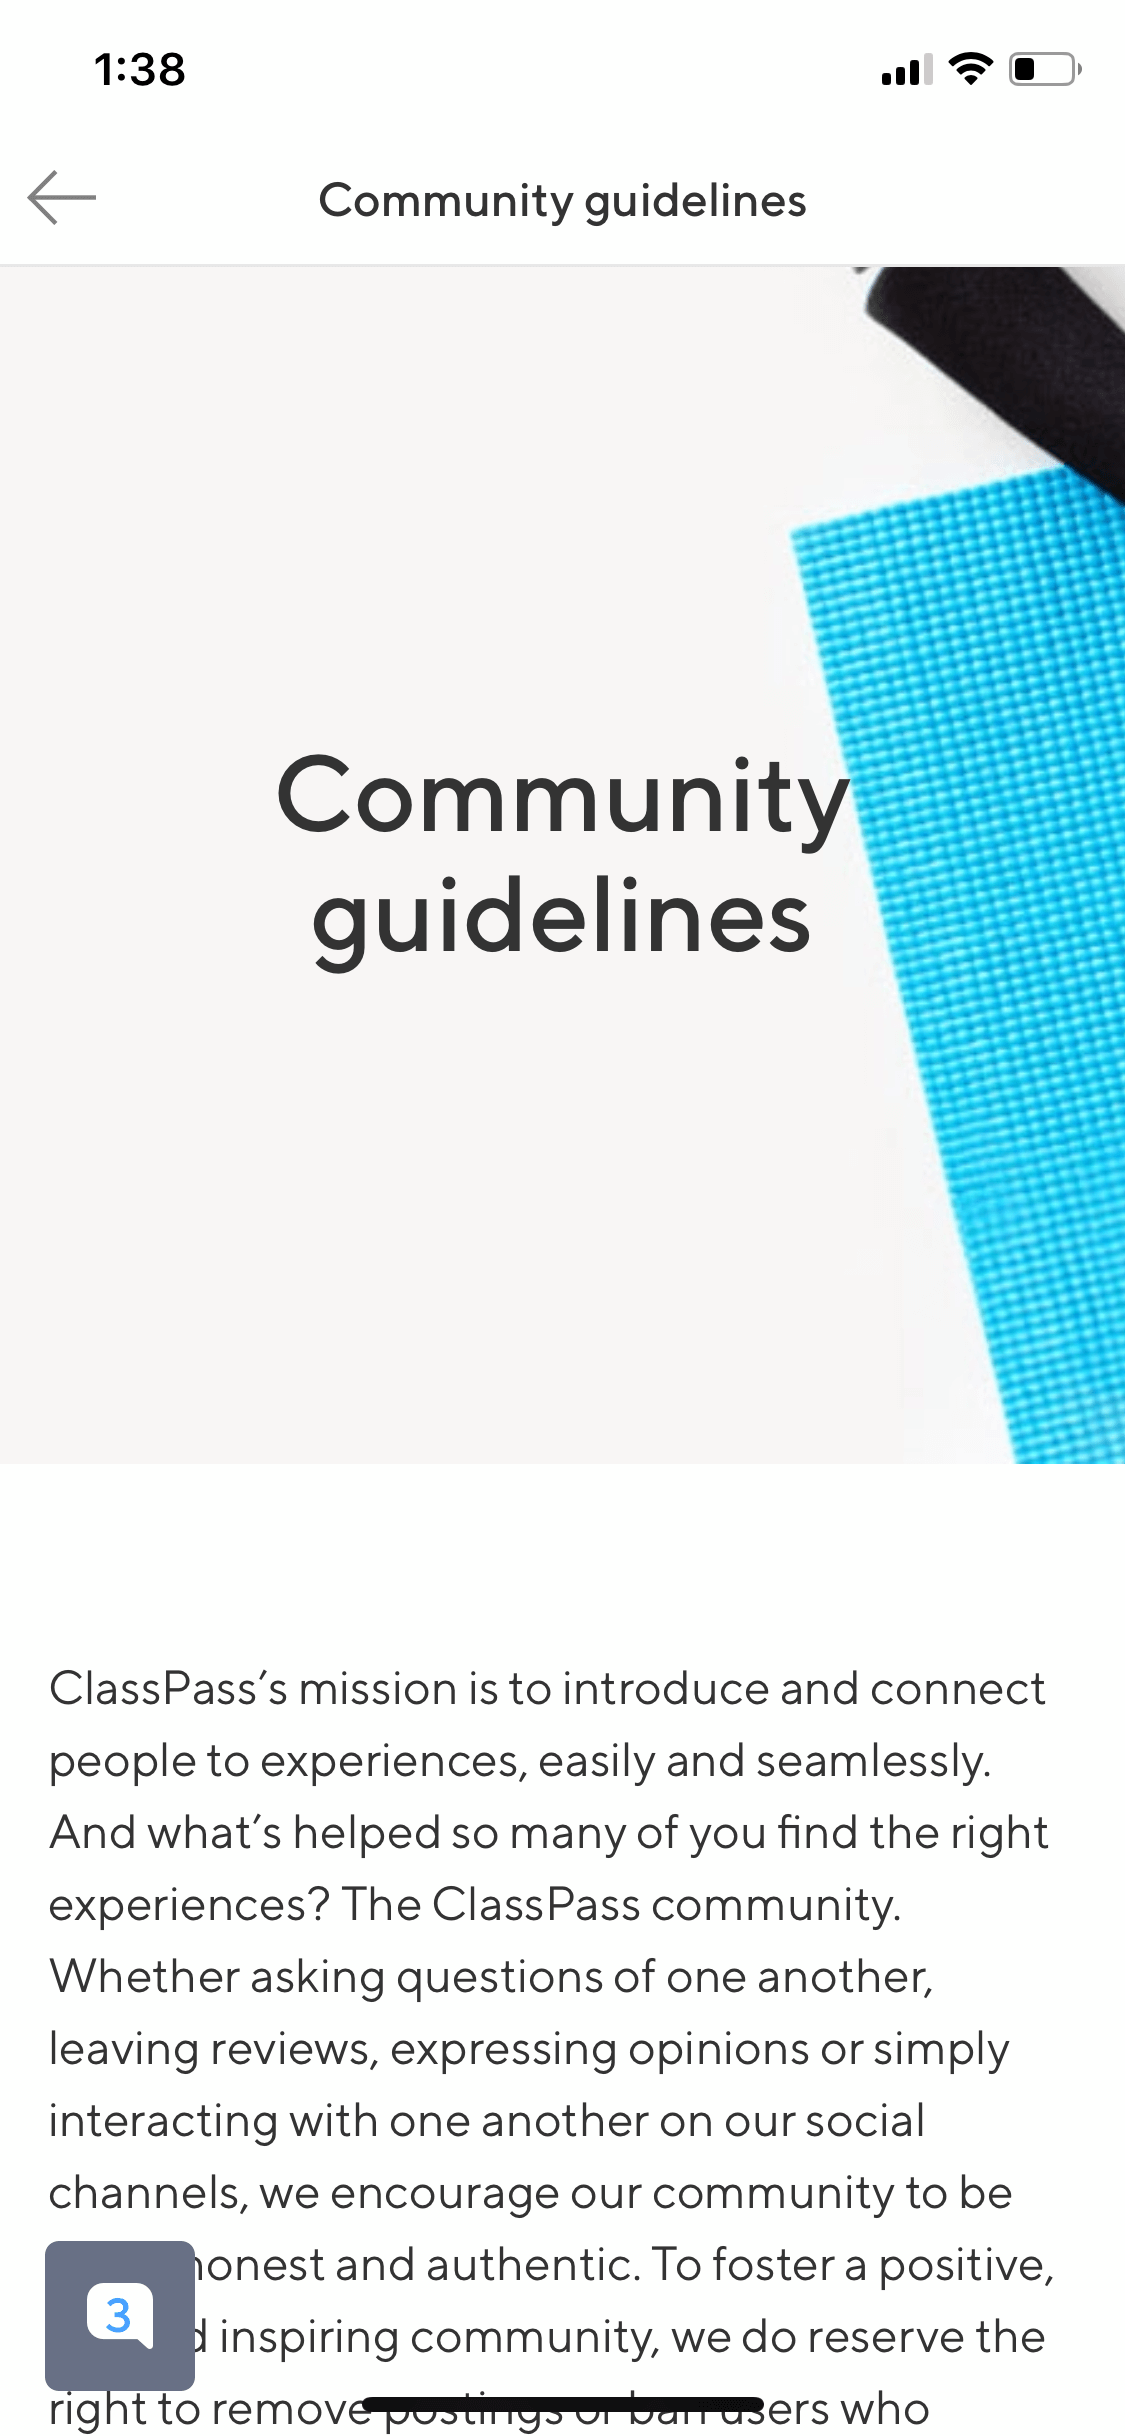Buttons: (6, 141, 120, 256)
FAB (Floating Action Button): (30, 2215, 207, 2408)
